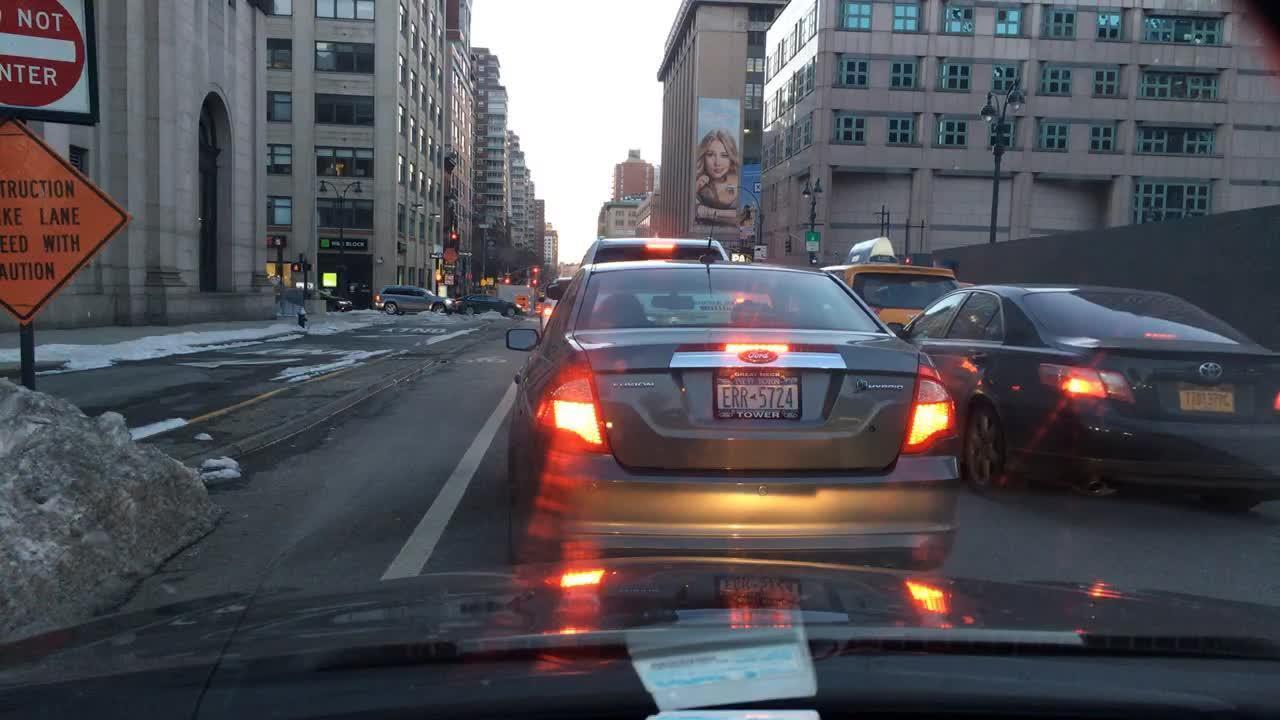Toyota: (1192, 359, 1234, 388)
ford: (735, 345, 782, 367)
